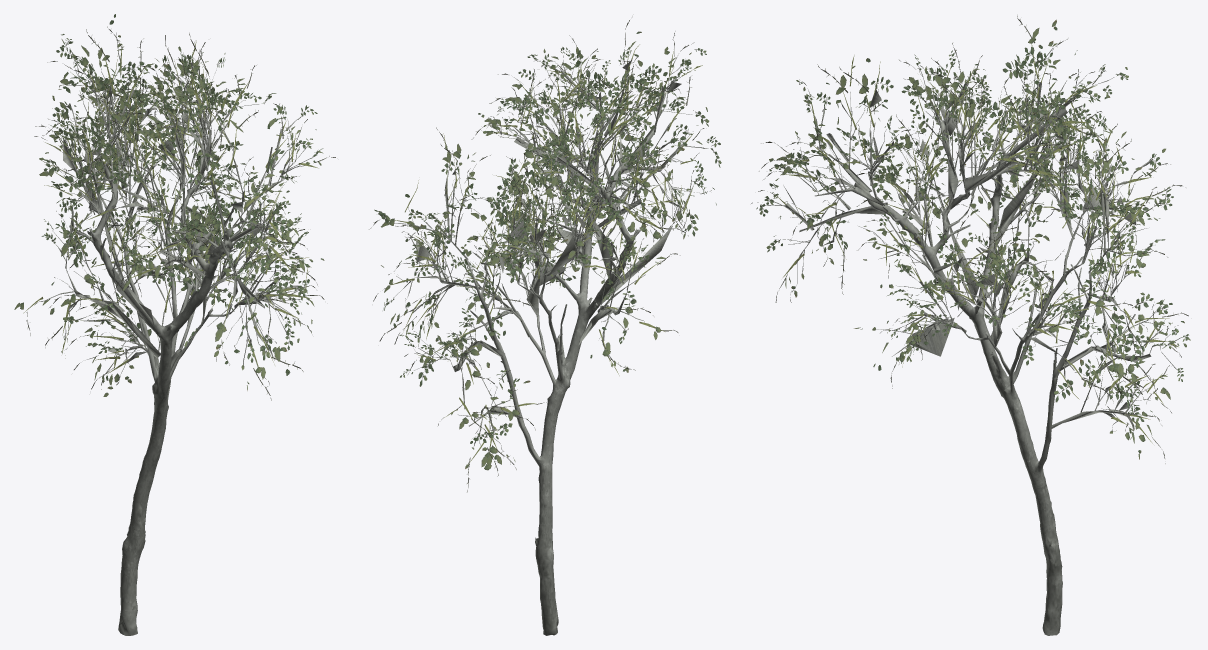
Rendered from natural-birch-weathered.glb.
3 renders of one model, left to right at view 1: azimuth 30°, elevation 25°; view 2: azimuth 150°, elevation 25°; view 3: azimuth 270°, elevation 25°, orthographic. The views are drawn at different scales.
Parts seen in each view (by area): view 1: natural-birch-weathered runtime mesh; view 2: natural-birch-weathered runtime mesh; view 3: natural-birch-weathered runtime mesh.
Boxes of the visible parts, box(x1,y1,x2,y2) form: natural-birch-weathered runtime mesh: box(14, 14, 335, 635); natural-birch-weathered runtime mesh: box(369, 16, 721, 635); natural-birch-weathered runtime mesh: box(751, 15, 1190, 635).
Size of the model in its own units: 2.37 by 5.11 by 3.49.
3 materials, 3 textured.
